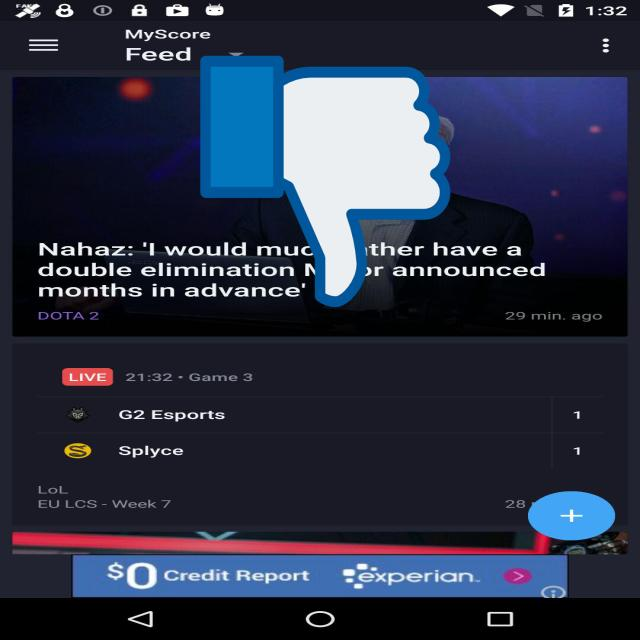obstruction: (200, 50, 450, 313)
